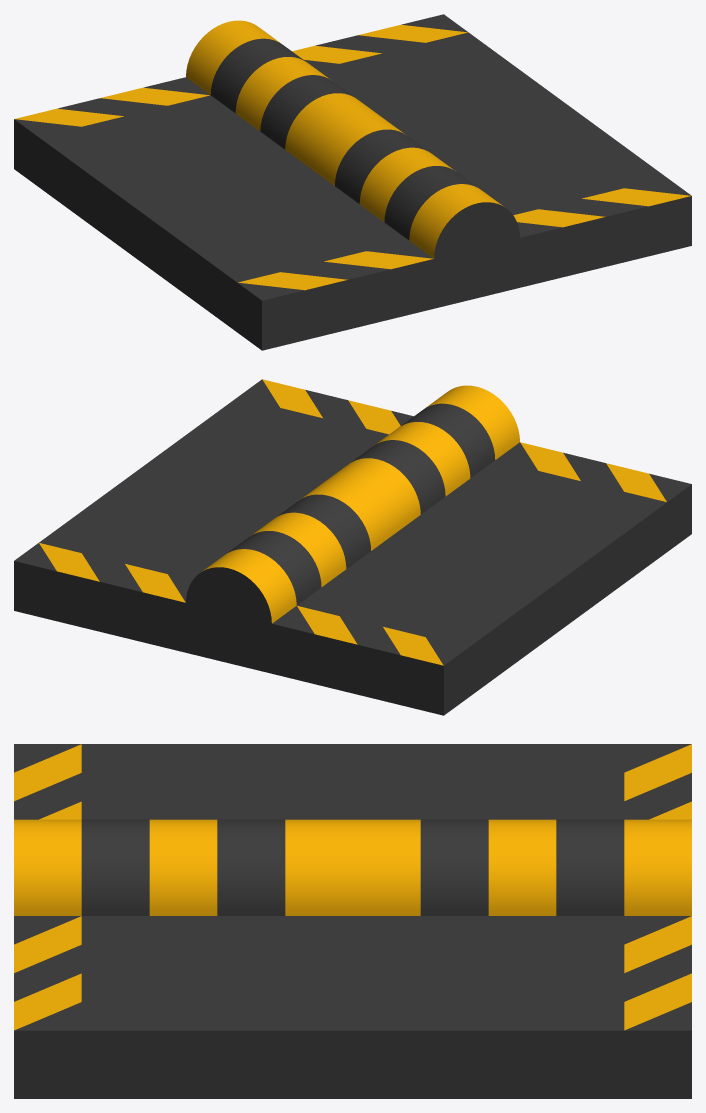
3 renders of one model, top to bottom at view 1: azimuth 30°, elevation 25°; view 2: azimuth 150°, elevation 25°; view 3: azimuth 270°, elevation 25°, orthographic. The views are drawn at different scales.
Visible parts, largest first — view 1: l1; view 2: l1; view 3: l1.
Part boxes in pixels (box(x1,y1,x2,y2)): l1: box(14, 14, 691, 350); l1: box(14, 379, 691, 715); l1: box(14, 744, 691, 1098).
Size of the model in its own units: 9 by 1.9 by 9.
